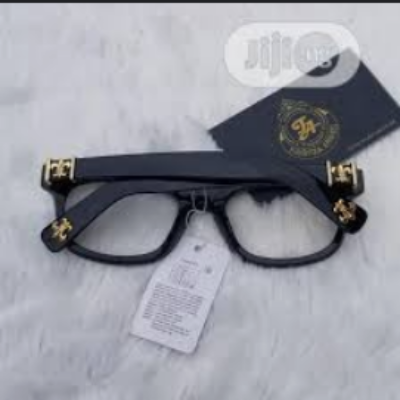glasses: (30, 142, 367, 279)
